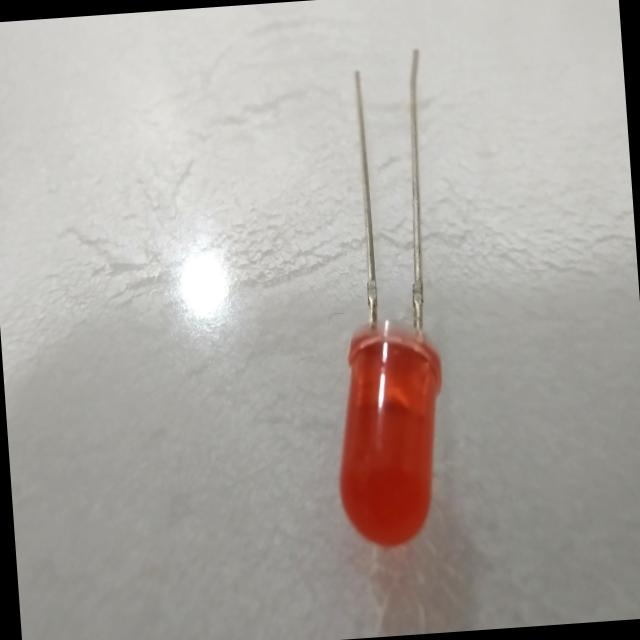red_led: (312, 304, 482, 566)
